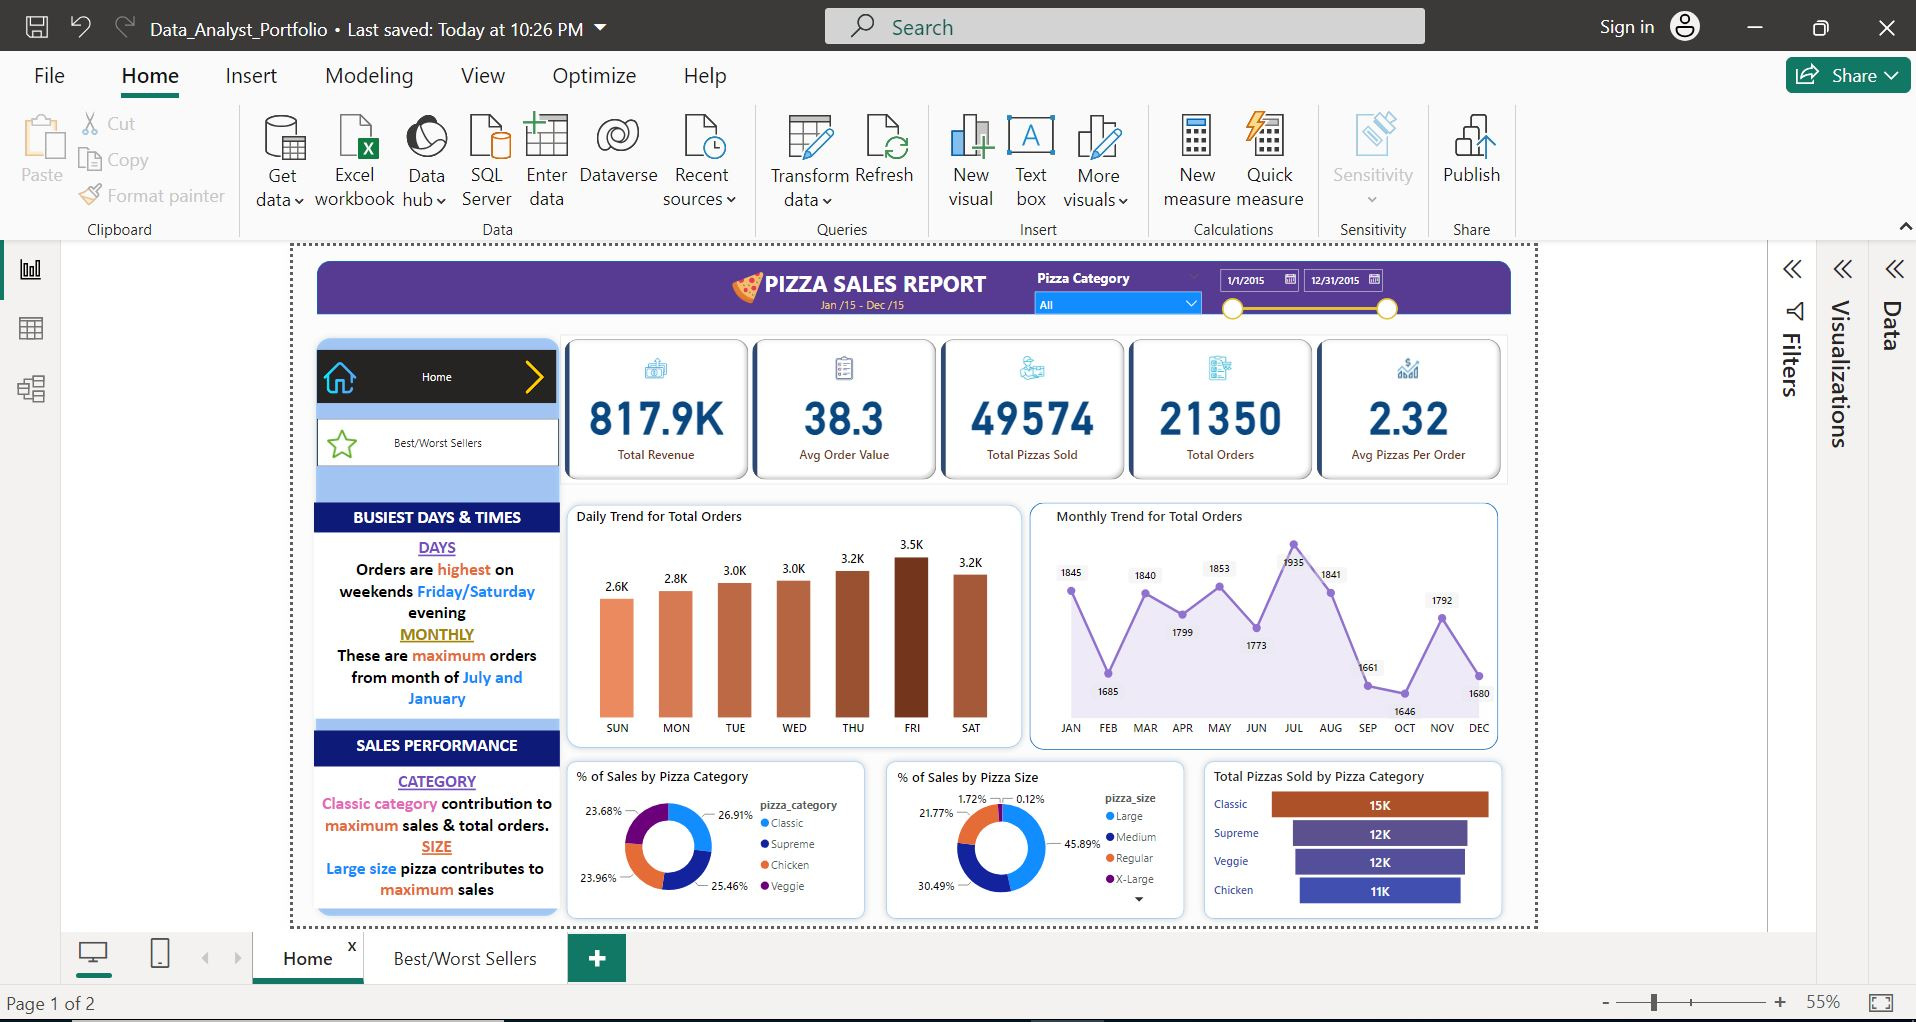

The dashboard page shown, as its layout file describes it:
{"tool":"powerbi","page":{"name":"Home","canvas":[1500,820],"ordinal":0},"visuals":[{"type":"cardVisual","fields":{"Data":["pizza_sales.Total Revenue","pizza_sales.Avg Order Value","pizza_sales.Total Pizzas Sold","pizza_sales.Total Orders","pizza_sales.Avg Pizzas Per Order"]},"box":[322.5,106.9,1144.3,180.6],"z":0},{"type":"shape","box":[29.5,18.4,1441,64.5],"z":1000},{"type":"textbox","box":[510.4,22.1,385.1,64.5],"z":2000},{"type":"textbox","box":[322.5,315.1,270.9,31.3],"z":3000},{"type":"textbox","box":[632,55.3,132.7,31.3],"z":4000},{"type":"image","box":[464.4,25.8,167.7,49.8],"z":5000},{"type":"shape","box":[322.5,304,565.7,309.6],"z":6000},{"type":"columnChart","title":"Daily Trend for Total Orders","fields":{"Category":["pizza_sales.Order Day"],"Y":["pizza_sales.Total Orders"]},"box":[337.2,315.1,536.2,285.6],"z":7000},{"type":"shape","box":[888.2,309.6,565.7,298.5],"z":8000},{"type":"areaChart","title":"Monthly Trend for Total Orders","fields":{"Y":["pizza_sales.Total Orders"],"Category":["pizza_sales.Order Month"]},"box":[915.8,315.1,538.1,285.6],"z":9000},{"type":"shape","box":[322.5,613.6,375.9,206.4],"z":10000},{"type":"shape","box":[707.6,613.6,375.9,206.4],"z":11000},{"type":"shape","box":[1090.9,613.6,375.9,206.4],"z":12000},{"type":"donutChart","title":"% of Sales by Pizza Category","fields":{"Category":["pizza_sales.pizza_category"],"Y":["pizza_sales.Total Revenue"]},"box":[337.2,628.4,340.9,171.4],"z":13000},{"type":"donutChart","title":"% of Sales by Pizza Size","fields":{"Category":["pizza_sales.pizza_size"],"Y":["pizza_sales.Total Revenue"]},"box":[724.2,630.2,340.9,171.4],"z":14000},{"type":"funnel","title":"Total Pizzas Sold by Pizza Category","fields":{"Category":["pizza_sales.pizza_category"],"Y":["pizza_sales.Total Pizzas Sold"]},"box":[1105.6,628.4,346.4,173.2],"z":15000},{"type":"shape","box":[20.3,103.2,309.6,713.1],"z":16000},{"type":"textbox","box":[25.8,309.6,296.7,36.9],"z":17000},{"type":"textbox","box":[25.8,346.4,296.7,224.8],"z":18000},{"type":"textbox","box":[25.8,584.1,296.7,46.1],"z":19000},{"type":"textbox","box":[25.8,628.4,296.7,171.4],"z":20000},{"type":"slicer","fields":{"Values":["pizza_sales.pizza_category"]},"box":[884.5,22.1,221.1,64.5],"z":21000},{"type":"slicer","fields":{"Values":["pizza_sales.order_date"]},"box":[1105.6,18.4,235.9,84.8],"z":22000},{"type":"pageNavigator","box":[29.5,125.3,289,65],"z":23000},{"type":"pageNavigator","box":[29.5,208.2,293,59],"z":24000},{"type":"image","box":[263.5,132.7,55.3,51.6],"z":25000},{"type":"image","box":[29.5,134.5,55.3,49.8],"z":26000},{"type":"image","box":[20.3,215.6,79.2,46.1],"z":27000}]}

Visuals, with their boxes on the page's 1500x820 design canvas (x1, y1, x2, y2). These are canvas units, not pixel positions in the 1916x1022 screenshot, which may show the page scaled, cropped or inside an application window:
cardVisual - pizza_sales.Total Revenue x pizza_sales.Avg Order Value: [left=322, top=107, right=1467, bottom=288]
shape: [left=30, top=18, right=1470, bottom=83]
textbox: [left=510, top=22, right=896, bottom=87]
textbox: [left=322, top=315, right=593, bottom=346]
textbox: [left=632, top=55, right=765, bottom=87]
image: [left=464, top=26, right=632, bottom=76]
shape: [left=322, top=304, right=888, bottom=614]
"Daily Trend for Total Orders" columnChart: [left=337, top=315, right=873, bottom=601]
shape: [left=888, top=310, right=1454, bottom=608]
"Monthly Trend for Total Orders" areaChart: [left=916, top=315, right=1454, bottom=601]
shape: [left=322, top=614, right=698, bottom=820]
shape: [left=708, top=614, right=1084, bottom=820]
shape: [left=1091, top=614, right=1467, bottom=820]
"% of Sales by Pizza Category" donutChart: [left=337, top=628, right=678, bottom=800]
"% of Sales by Pizza Size" donutChart: [left=724, top=630, right=1065, bottom=802]
"Total Pizzas Sold by Pizza Category" funnel: [left=1106, top=628, right=1452, bottom=802]
shape: [left=20, top=103, right=330, bottom=816]
textbox: [left=26, top=310, right=322, bottom=346]
textbox: [left=26, top=346, right=322, bottom=571]
textbox: [left=26, top=584, right=322, bottom=630]
textbox: [left=26, top=628, right=322, bottom=800]
slicer - pizza_sales.pizza_category: [left=884, top=22, right=1106, bottom=87]
slicer - pizza_sales.order_date: [left=1106, top=18, right=1342, bottom=103]
pageNavigator: [left=30, top=125, right=318, bottom=190]
pageNavigator: [left=30, top=208, right=322, bottom=267]
image: [left=264, top=133, right=319, bottom=184]
image: [left=30, top=134, right=85, bottom=184]
image: [left=20, top=216, right=100, bottom=262]
